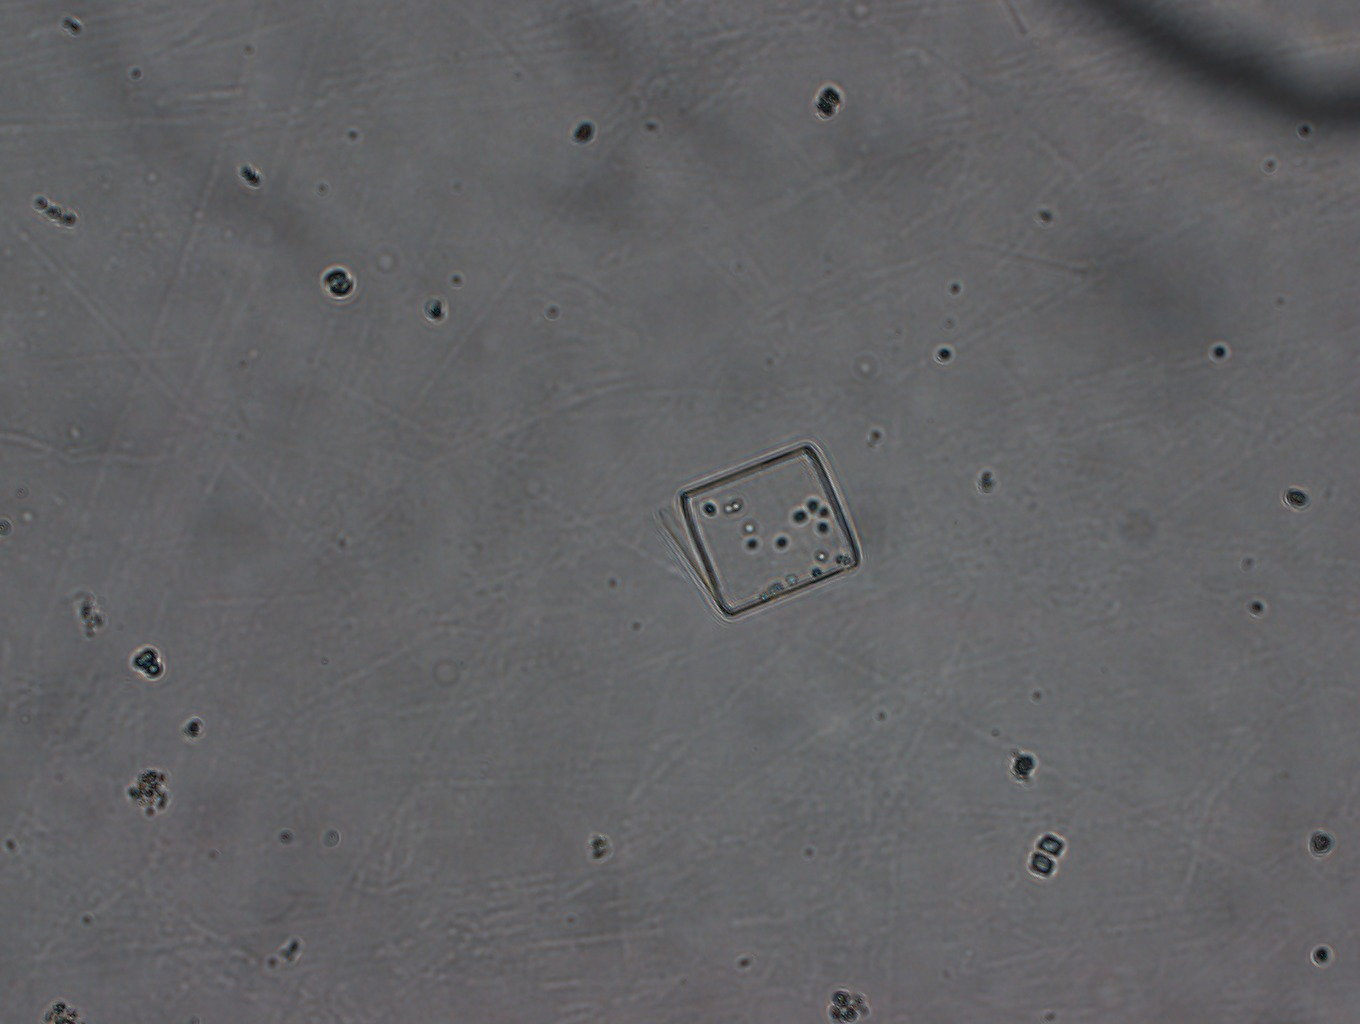guinardia flaccida: (656, 444, 860, 617)
